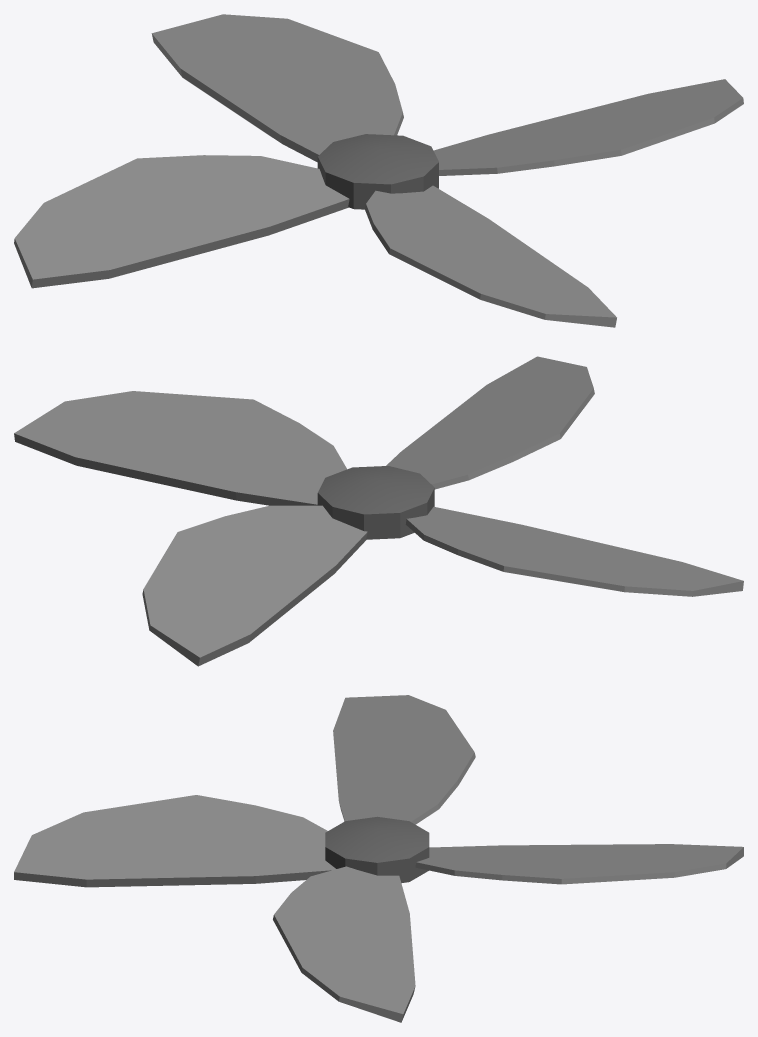
File: propellor_top.fbx
3 views of the same model, one above another, from view 1: azimuth 30°, elevation 25°; view 2: azimuth 150°, elevation 25°; view 3: azimuth 270°, elevation 25° (orthographic). The views are drawn at different scales.
Parts seen in each view (by area): view 1: pCylinder24; view 2: pCylinder24; view 3: pCylinder24.
Boxes of the visible parts, left/top/right/bottom form: pCylinder24: left=14, top=14, right=743, bottom=327; pCylinder24: left=14, top=356, right=743, bottom=666; pCylinder24: left=14, top=695, right=743, bottom=1022.
Bounding box in the file's own units: 4.12 × 0.264 × 4.01.
